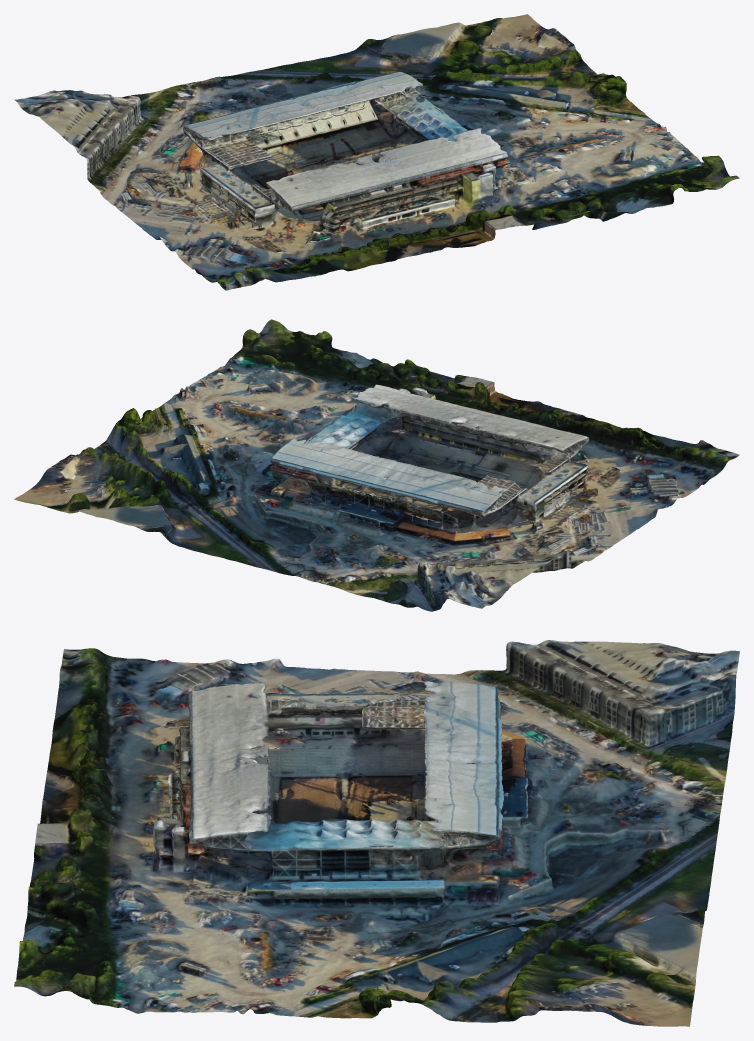
Rendered from stadium-site.glb.
3 renders of one model, top to bottom at view 1: azimuth 30°, elevation 25°; view 2: azimuth 150°, elevation 25°; view 3: azimuth 270°, elevation 25°, orthographic. The views are drawn at different scales.
Parts seen in each view (by area): view 1: Model_material0_0; view 2: Model_material0_0; view 3: Model_material0_0.
Part boxes in pixels (x1,y1,x2,y2): Model_material0_0: [14, 14, 739, 290]; Model_material0_0: [14, 319, 739, 611]; Model_material0_0: [14, 640, 739, 1026].
Size of the model in its own units: 29.03 by 2.76 by 24.63.
Materials: 1 (1 with a texture image).
